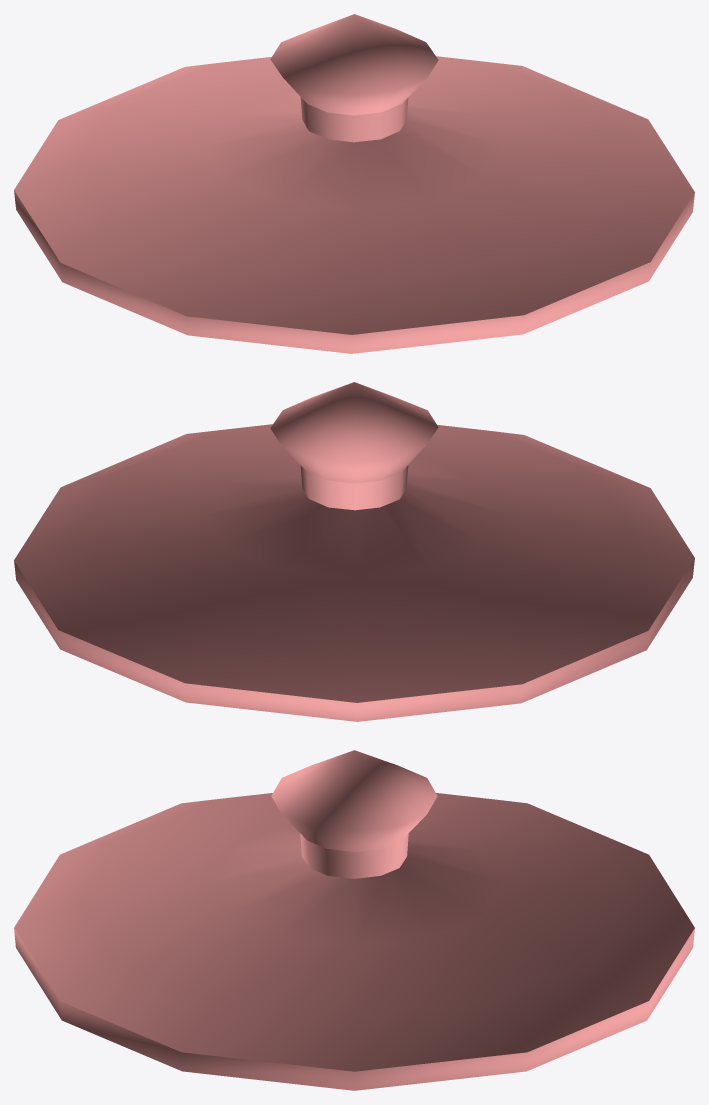
The model's file is TFYK_teapot_cap.FBX.
3 renders of one model, top to bottom at view 1: azimuth 30°, elevation 25°; view 2: azimuth 150°, elevation 25°; view 3: azimuth 270°, elevation 25°, orthographic.
Parts seen in each view (by area): view 1: TFYK_teapot_cap; view 2: TFYK_teapot_cap; view 3: TFYK_teapot_cap.
Part boxes in pixels (bbox=[...]): TFYK_teapot_cap: bbox=[14, 14, 694, 353]; TFYK_teapot_cap: bbox=[14, 382, 694, 721]; TFYK_teapot_cap: bbox=[14, 750, 694, 1090].
Bounding box in the file's own units: 0.0712 × 0.0228 × 0.0712.
